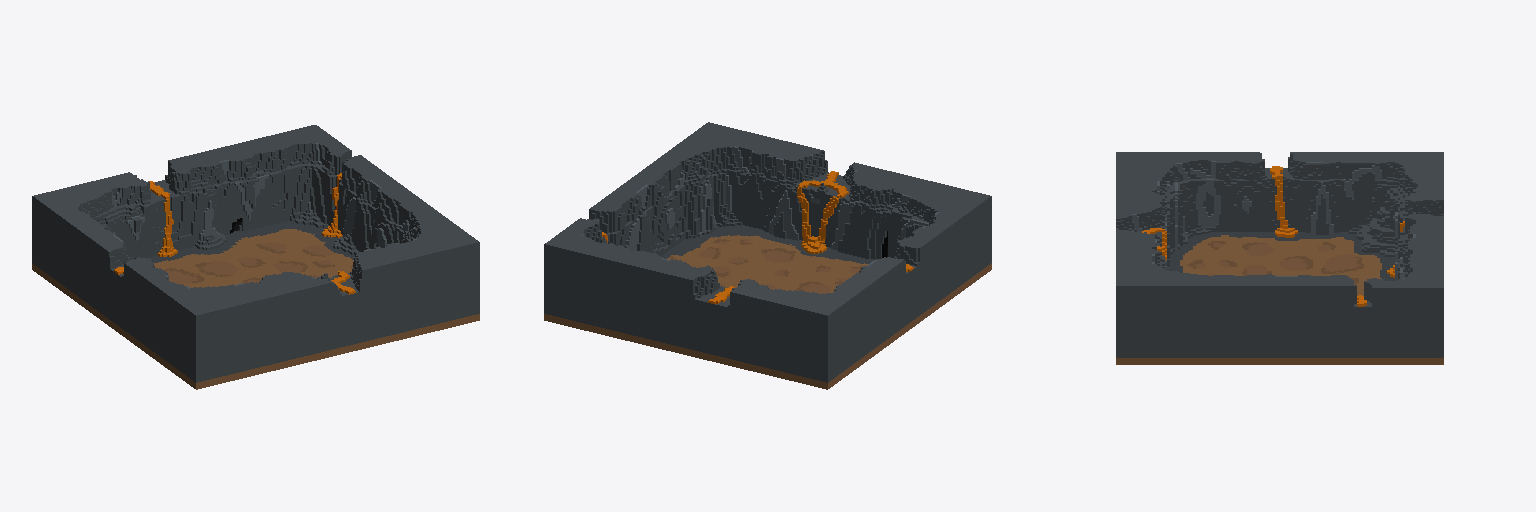
3 renders of one model, left to right at view 1: azimuth 30°, elevation 25°; view 2: azimuth 150°, elevation 25°; view 3: azimuth 270°, elevation 25°, orthographic.
Visible parts, largest first — view 1: object 1; view 2: object 1; view 3: object 1.
Boxes of the visible parts, x1=… form: object 1: x1=32, y1=125, x2=479, y2=389; object 1: x1=544, y1=122, x2=991, y2=389; object 1: x1=1116, y1=152, x2=1443, y2=364.
Size of the model in its own units: 12.8 by 3.4 by 12.8.
Materials: 1 (1 with a texture image).